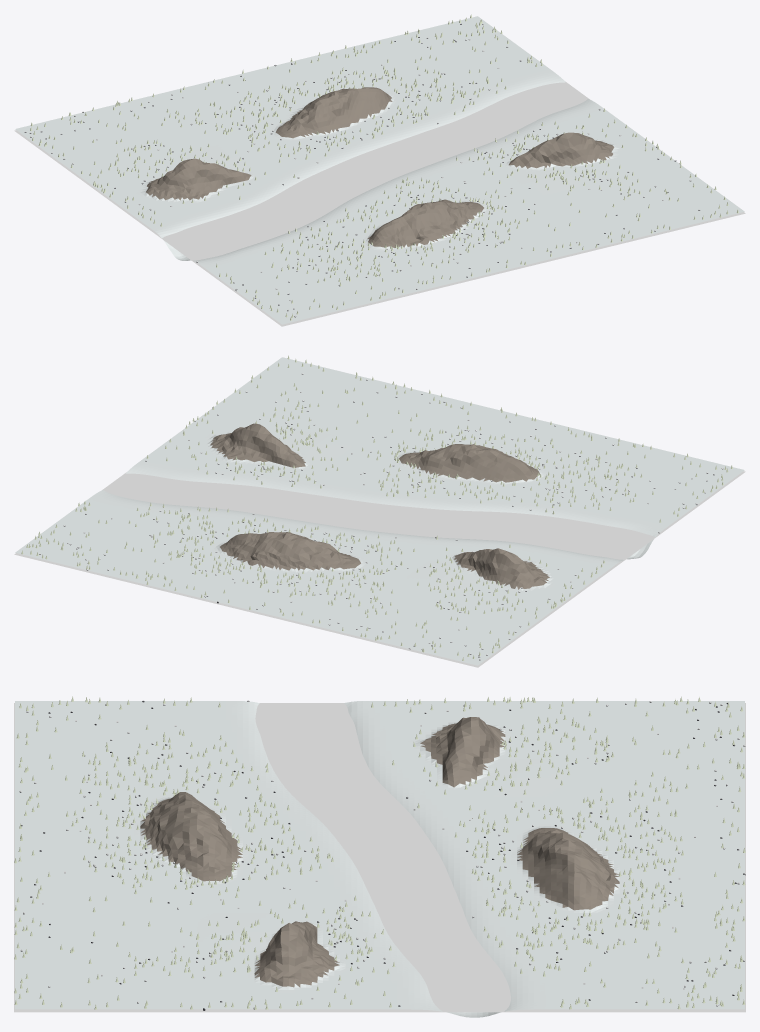
Rendered from Map-Snowy15004.0(1).fbx.
3 views of the same model, one above another, from view 1: azimuth 30°, elevation 25°; view 2: azimuth 150°, elevation 25°; view 3: azimuth 270°, elevation 25° (orthographic). The views are drawn at different scales.
Visible parts, largest first — view 1: Plane.001, Plane, Plane.002, Plane.003; view 2: Plane.001, Plane, Plane.002, Plane.003; view 3: Plane.001, Plane, Plane.002, Plane.003.
Boxes of the visible parts, bbox=[...] form: Plane.001: bbox=[15, 16, 744, 324]; Plane: bbox=[14, 81, 745, 326]; Plane.002: bbox=[146, 87, 614, 247]; Plane.003: bbox=[161, 82, 586, 260]; Plane.001: bbox=[15, 357, 744, 665]; Plane: bbox=[14, 471, 745, 667]; Plane.002: bbox=[210, 423, 549, 589]; Plane.003: bbox=[103, 472, 653, 559]; Plane.001: bbox=[15, 701, 744, 1011]; Plane: bbox=[14, 703, 745, 1012]; Plane.002: bbox=[140, 717, 619, 987]; Plane.003: bbox=[254, 702, 511, 1017].
Size of the model in its own units: 80245 by 13163 by 80000.
